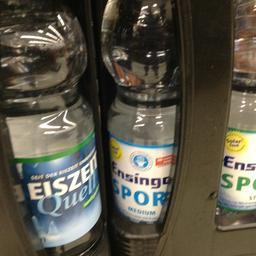water: (0, 0, 101, 255), (98, 0, 176, 224)
